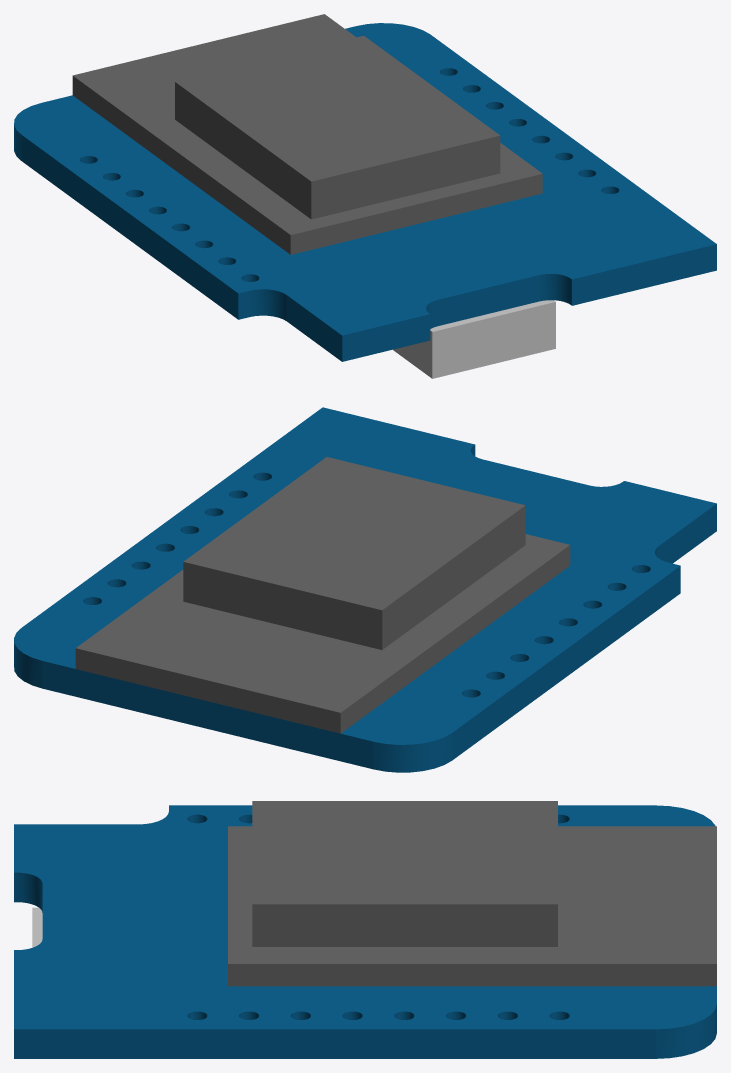
The model's file is kc-wemos_d1_mini_light.glb.
The picture shows the model from 3 angles, top to bottom: view 1: azimuth 30°, elevation 25°; view 2: azimuth 150°, elevation 25°; view 3: azimuth 270°, elevation 25°; orthographic projection. The views are drawn at different scales.
Parts seen in each view (by area): view 1: 0_0.08333333333333333_0.25_0, 0.16666666666666666_0.16666666666666666_0.16666666666666666_, 0.5833333333333334_0.5833333333333334_0.5833333333333334_0.8; view 2: 0_0.08333333333333333_0.25_0, 0.16666666666666666_0.16666666666666666_0.16666666666666666_; view 3: 0_0.08333333333333333_0.25_0, 0.16666666666666666_0.16666666666666666_0.16666666666666666_.
Boxes of the visible parts, x1,y1,x2,y2 form: 0_0.08333333333333333_0.25_0: (14,23,716,361); 0.16666666666666666_0.16666666666666666_0.16666666666666666_: (72,14,542,254); 0.5833333333333334_0.5833333333333334_0.5833333333333334_0.8: (393,300,555,378); 0_0.08333333333333333_0.25_0: (14,407,716,772); 0.16666666666666666_0.16666666666666666_0.16666666666666666_: (75,457,570,733); 0_0.08333333333333333_0.25_0: (14,805,716,1058); 0.16666666666666666_0.16666666666666666_0.16666666666666666_: (228,801,716,986).
Size of the model in its own units: 2.6 by 0.7951 by 3.45.
